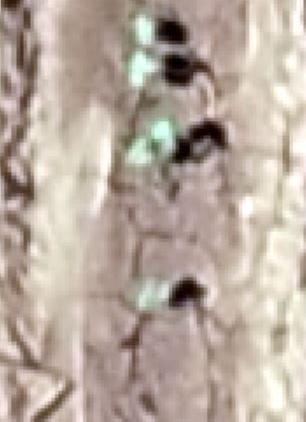cotton: (130, 54, 161, 81), (125, 139, 156, 161), (140, 285, 169, 307), (151, 117, 174, 138), (137, 18, 154, 42)
